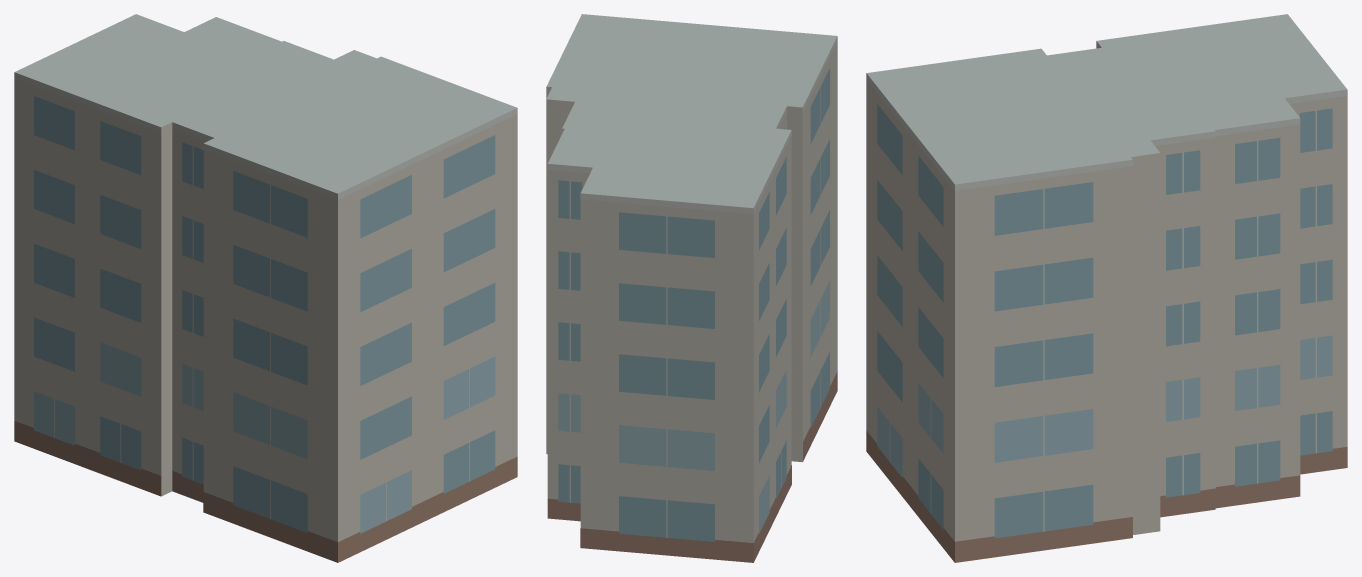
File: survey-upis-32971304.glb
The picture shows the model from 3 angles, left to right: view 1: azimuth 30°, elevation 25°; view 2: azimuth 150°, elevation 25°; view 3: azimuth 270°, elevation 25°; orthographic projection. The views are drawn at different scales.
Visible parts, largest first — view 1: survey-upis-32971304.tmp; view 2: survey-upis-32971304.tmp; view 3: survey-upis-32971304.tmp.
Boxes of the visible parts, box(x1,y1,x2,y2) form: survey-upis-32971304.tmp: box(14, 14, 517, 562); survey-upis-32971304.tmp: box(546, 14, 837, 562); survey-upis-32971304.tmp: box(866, 14, 1347, 562).
Size of the model in its own units: 14.08 by 14.55 by 16.78.
